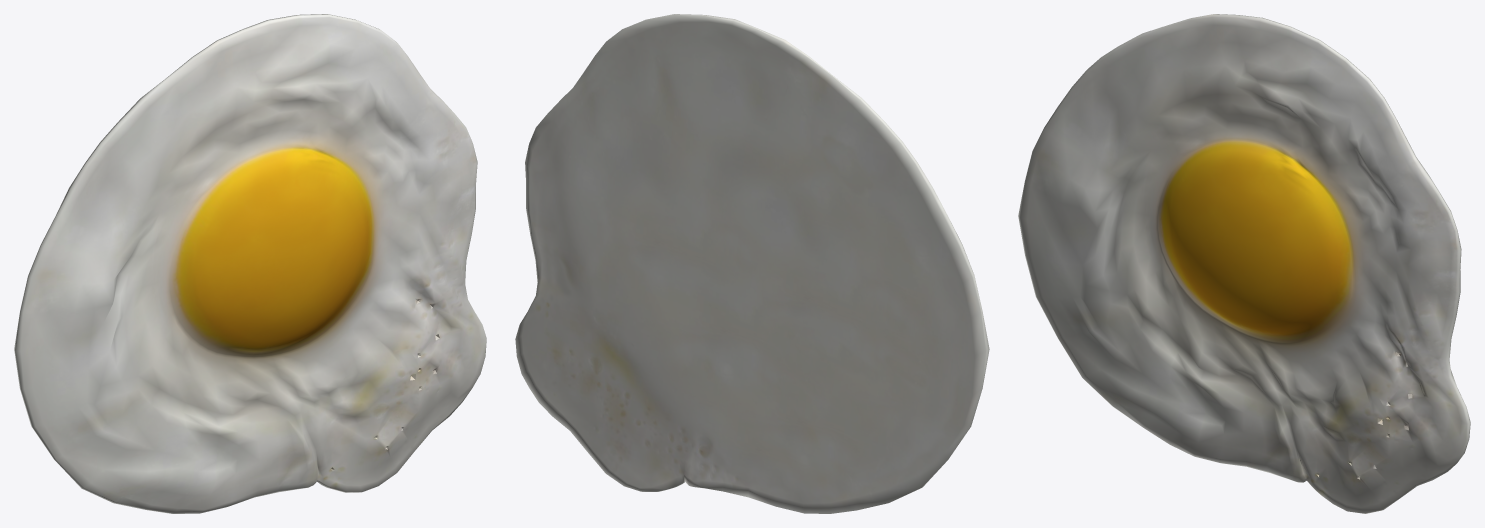
File: Fried_Egg_convert.obj
3 renders of one model, left to right at view 1: azimuth 30°, elevation 25°; view 2: azimuth 150°, elevation 25°; view 3: azimuth 330°, elevation 25°, orthographic. The views are drawn at different scales.
Visible parts, largest first — view 1: fried_egg_pivot; view 2: fried_egg_pivot; view 3: fried_egg_pivot.
Part boxes in pixels (<box>): fried_egg_pivot: <box>14,14,486,513</box>; fried_egg_pivot: <box>515,14,989,513</box>; fried_egg_pivot: <box>1018,14,1470,513</box>.
Bounding box in the file's own units: 13.39 × 13.41 × 1.13.
Materials: 1 (1 with a texture image).
